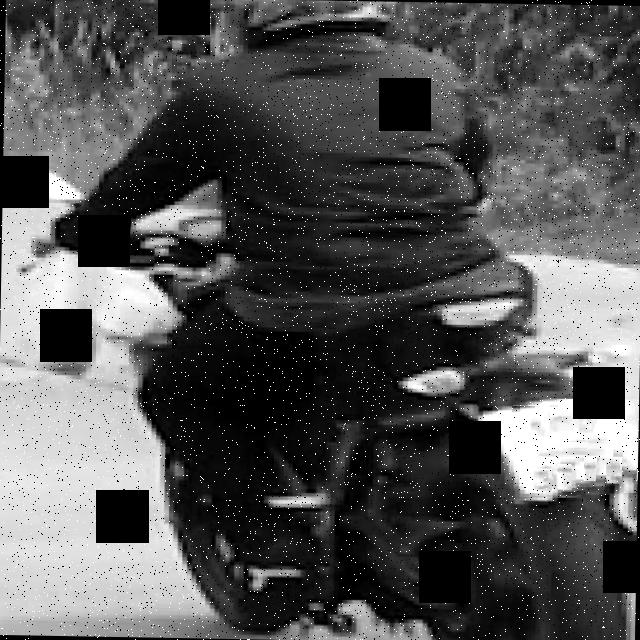letters: (510, 406, 544, 444), (550, 405, 574, 431), (530, 468, 552, 492), (604, 456, 622, 483), (578, 408, 594, 433), (556, 464, 572, 489), (584, 456, 596, 480)
license-plate: (475, 398, 637, 498)
province: (536, 440, 613, 457)
